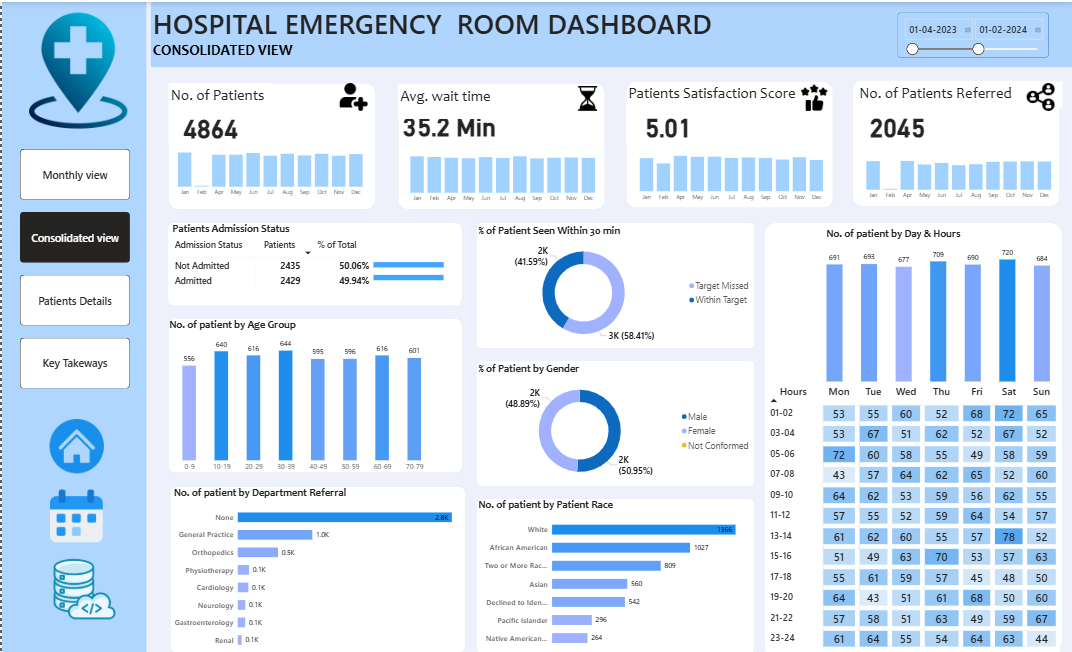

The page's visual inventory and layout, read from the dashboard file:
{"tool":"powerbi","page":{"name":"Consolidated view ","canvas":[2300,1400],"ordinal":1},"visuals":[{"type":"shape","box":[1826.9,166.4,444.8,271.7],"z":0},{"type":"shape","box":[356.5,173.2,444.8,271.7],"z":1000},{"type":"card","fields":{"Values":["Date Table.No. of Patients Referred"]},"box":[1833.7,220.7,180,81.5],"z":2000},{"type":"card","fields":{"Values":["Date Table.No. of patient"]},"box":[356.5,224.1,180,81.5],"z":3000},{"type":"textbox","box":[1834.8,172.2,441.4,57.7],"z":4000},{"type":"shape","box":[1341.3,169.8,444.8,271.7],"z":5000},{"type":"columnChart","fields":{"Y":["Date Table.No. of Patients Referred"],"Category":["Date Table.Month"]},"box":[1834.8,301.6,436.7,130],"z":6000},{"type":"textbox","box":[356.5,173.2,220.7,61.1],"z":7000},{"type":"shape","box":[848.9,173.2,444.8,271.7],"z":8000},{"type":"columnChart","fields":{"Category":["Date Table.Month"],"Y":["Date Table.No. of patient"]},"box":[358.1,295.9,436.7,130],"z":9000},{"type":"card","fields":{"Values":["Avg(Hospital ER_Data.Patient Satisfaction Score)"]},"box":[1341.3,220.7,180,81.5],"z":10000},{"type":"card","fields":{"Values":["Date Table.AVg Wait Time"]},"box":[853.3,216.7,213.3,93.3],"z":11000},{"type":"textbox","box":[1339.3,172.2,414.3,54.3],"z":12000},{"type":"columnChart","fields":{"Category":["Date Table.Month"],"Y":["Avg(Hospital ER_Data.Patient Satisfaction Score)"]},"box":[1350,306.7,433.3,130],"z":13000},{"type":"shape","box":[1017.8,769.8,599.1,270.6],"z":14000},{"type":"textbox","box":[851,176.7,221.2,74.2],"z":15000},{"type":"shape","box":[354.3,475.1,634.2,179.5],"z":15000,"group":"g1"},{"type":"columnChart","fields":{"Y":["Avg(Hospital ER_Data.Patient Waittime)"],"Category":["Date Table.Month"]},"box":[856.7,310,436.7,130],"z":16000},{"type":"pivotTable","title":"Patients Admission Status ","fields":{"Rows":["Hospital ER_Data.Admission Status"],"Values":["Date Table.No. of patient1","Date Table.No. of patient"]},"box":[360.8,473.5,657,177.2],"z":16000,"group":"g1"},{"type":"barChart","fields":{"Category":["Hospital ER_Data.Admission Status"],"Y":["Date Table.No. of patient"]},"box":[790.9,532.4,195.9,86.7],"z":17000,"group":"g1"},{"type":"shape","box":[360.7,1040.4,634.5,357.5],"z":17000},{"type":"shape","box":[0,0,310,1400],"z":18000},{"type":"shape","box":[319.2,0,1979.7,140],"z":19000},{"type":"textbox","box":[319.2,0,1229.2,98.5],"z":20000},{"type":"textbox","box":[319.5,78,324.4,61],"z":21000},{"type":"slicer","fields":{"Values":["Date Table.Date"]},"box":[1924.4,22,324.4,97.6],"z":22000},{"type":"group","id":"g1","title":"Group 3","box":[354.3,473.5,663.5,180.4],"z":23000},{"type":"clusteredBarChart","fields":{"Y":["Date Table.No. of patient"],"Category":["Hospital ER_Data.Department Referral"]},"box":[364,1040.4,631.3,360.7],"z":24000},{"type":"shape","box":[357.5,679.6,631.3,331.8],"z":25000},{"type":"clusteredColumnChart","fields":{"Y":["Date Table.No. of patient"],"Category":["Hospital ER_Data.Age Group"]},"box":[354.3,679.6,579.8,338.2],"z":26000},{"type":"shape","box":[1017.8,473.5,599.1,270.6],"z":27000},{"type":"donutChart","title":"% of Patient Seen Within 30 min","fields":{"Category":["Hospital ER_Data.Waittime Status"],"Y":["Date Table.No. of patient"]},"box":[1017.8,476.7,599.1,267.3],"z":28000},{"type":"donutChart","title":"% of Patient by Gender","fields":{"Y":["Date Table.No. of patient"],"Category":["Hospital ER_Data.Patient Gender"]},"box":[1017.8,773,599.1,267.3],"z":29000},{"type":"shape","box":[1017.8,1066.1,599.1,335],"z":30000},{"type":"clusteredBarChart","fields":{"Y":["Date Table.No. of patient"],"Category":["Hospital ER_Data.Patient Race"]},"box":[1017.8,1066.1,599.1,331.8],"z":31000},{"type":"shape","box":[1636.2,473.5,641,924.4],"z":32000},{"type":"pivotTable","fields":{"Rows":["Hospital ER_Data.Waittime Interval"],"Columns":["Date Table.Day Name"],"Values":["Date Table.No. of patient"]},"box":[1640,815,632.5,585],"z":33000},{"type":"columnChart","title":"No. of patient by Day & Hours","fields":{"Category":["Date Table.Day Name"],"Y":["Date Table.No. of patient"]},"box":[1765,482.5,492.5,337.5],"z":34000},{"type":"image","box":[40,10,250,275],"z":35000},{"type":"pageNavigator","box":[40,316.7,236.7,516.7],"z":36000},{"type":"image","box":[713.3,173.3,86.7,60],"z":37000},{"type":"image","box":[1220,180,73.3,53.3],"z":38000},{"type":"image","box":[1710,176.7,66.7,56.7],"z":39000},{"type":"image","box":[2190,173.3,80,60],"z":40000},{"type":"image","box":[90,896.7,140,116.7],"z":41000},{"type":"image","box":[103.3,1190,150,146.7],"z":42000},{"type":"image","box":[103.3,1040,113.3,126.7],"z":43000}]}

Visuals, with their boxes in screenshot pixels (x1, y1, x2, y2), scaled from the page's 2300x1400 canvas onto the 1072x652 screenshot:
shape: 851,77,1059,204
shape: 166,81,373,207
card - Date Table.No. of Patients Referred: 855,103,939,141
card - Date Table.No. of patient: 166,104,250,142
textbox: 855,80,1061,107
shape: 625,79,832,206
columnChart - Date Table.No. of Patients Referred x Date Table.Month: 855,140,1059,201
textbox: 166,81,269,109
shape: 396,81,603,207
columnChart - Date Table.Month x Date Table.No. of patient: 167,138,370,198
card - Avg(Hospital ER_Data.Patient Satisfaction Score): 625,103,709,141
card - Date Table.AVg Wait Time: 398,101,497,144
textbox: 624,80,817,105
columnChart - Date Table.Month x Avg(Hospital ER_Data.Patient Satisfaction Score): 629,143,831,203
shape: 474,359,754,485
textbox: 397,82,500,117
shape: 165,221,461,305
columnChart - Avg(Hospital ER_Data.Patient Waittime) x Date Table.Month: 399,144,603,205
"Patients Admission Status " pivotTable: 168,221,474,303
barChart - Hospital ER_Data.Admission Status x Date Table.No. of patient: 369,248,460,288
shape: 168,485,464,651
shape: 0,0,144,651
shape: 149,0,1071,65
textbox: 149,0,722,46
textbox: 149,36,300,65
slicer - Date Table.Date: 897,10,1048,56
"Group 3" group: 165,221,474,305
clusteredBarChart - Date Table.No. of patient x Hospital ER_Data.Department Referral: 170,485,464,651
shape: 167,316,461,471
clusteredColumnChart - Date Table.No. of patient x Hospital ER_Data.Age Group: 165,316,435,474
shape: 474,221,754,347
"% of Patient Seen Within 30 min" donutChart: 474,222,754,346
"% of Patient by Gender" donutChart: 474,360,754,484
shape: 474,496,754,651
clusteredBarChart - Date Table.No. of patient x Hospital ER_Data.Patient Race: 474,496,754,651
shape: 763,221,1061,651
pivotTable - Hospital ER_Data.Waittime Interval x Date Table.Day Name: 764,380,1059,651
"No. of patient by Day & Hours" columnChart: 823,225,1052,382
image: 19,5,135,133
pageNavigator: 19,147,129,388
image: 332,81,373,109
image: 569,84,603,109
image: 797,82,828,109
image: 1021,81,1058,109
image: 42,418,107,472
image: 48,554,118,623
image: 48,484,101,543
